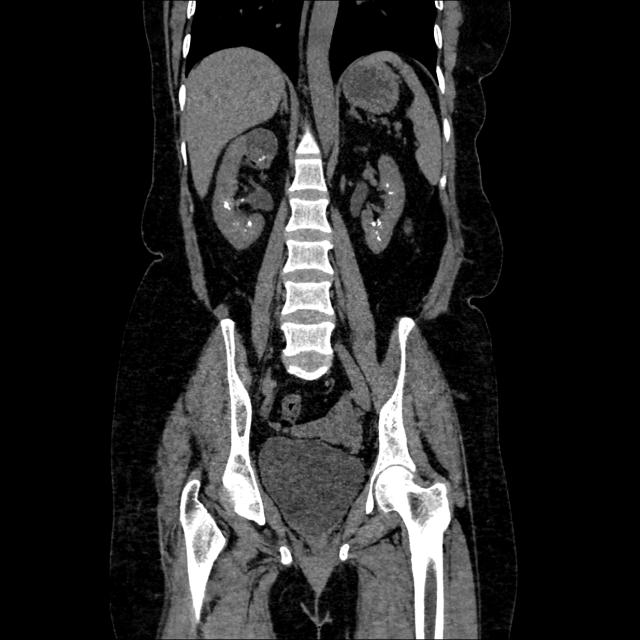kidney: (212, 120, 279, 252), (349, 150, 408, 256)
stone: (367, 210, 384, 229), (221, 192, 235, 215), (372, 228, 388, 248), (243, 215, 256, 230)
